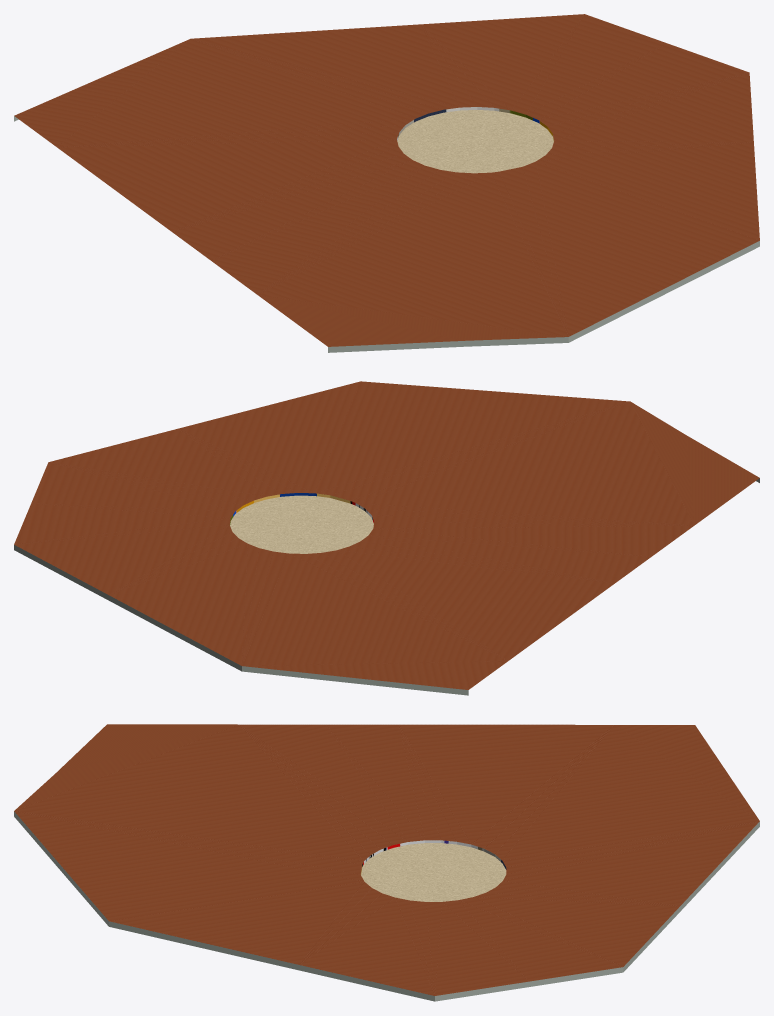
Rendered from Disc_.FBX.
The picture shows the model from 3 angles, top to bottom: view 1: azimuth 30°, elevation 25°; view 2: azimuth 150°, elevation 25°; view 3: azimuth 270°, elevation 25°; orthographic projection. The views are drawn at different scales.
Visible parts, largest first — view 1: Disc_; view 2: Disc_; view 3: Disc_.
Boxes of the visible parts, <box> form: Disc_: <box>14,14,759,352</box>; Disc_: <box>14,381,759,695</box>; Disc_: <box>14,724,759,1001</box>.
Size of the model in its own units: 110 by 1.04 by 127.
